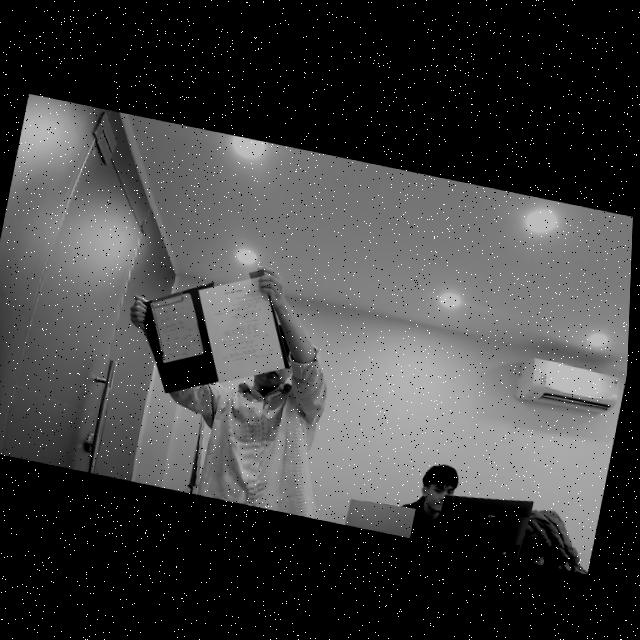document: (198, 276, 285, 383), (150, 293, 205, 363)
